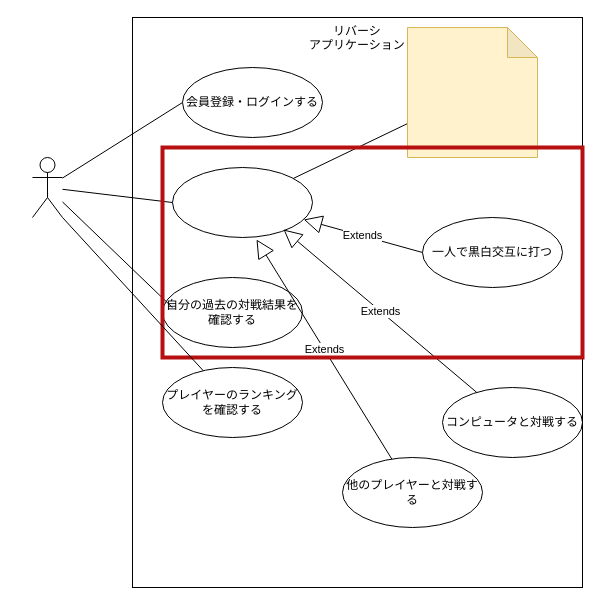
This 602x605 diagram has some shape labels left out. Each missing label, with the centre of its shape:
プレイヤー: pixel 47 187
対戦する: pixel 242 202
対戦を開始する 盤面を見る 石を打つ 勝敗を確認する: pixel 472 92
